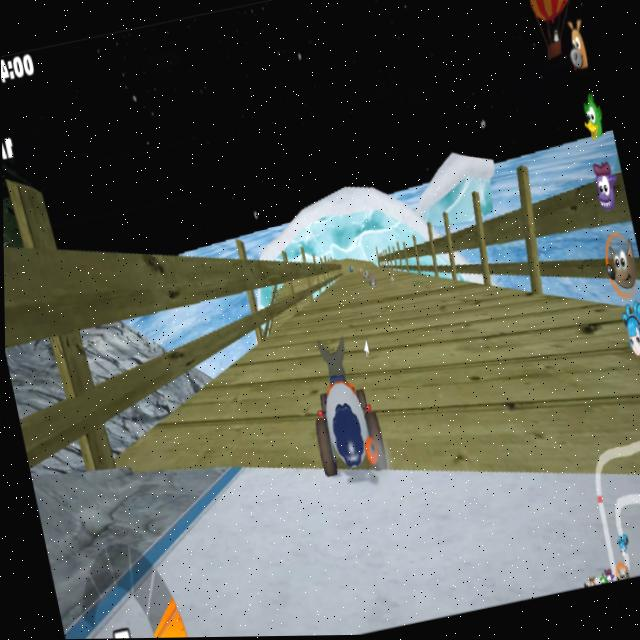enemy_kart: (365, 274, 381, 294), (342, 256, 355, 276)
player_kart: (297, 339, 390, 491)
track: (292, 278, 454, 357)
